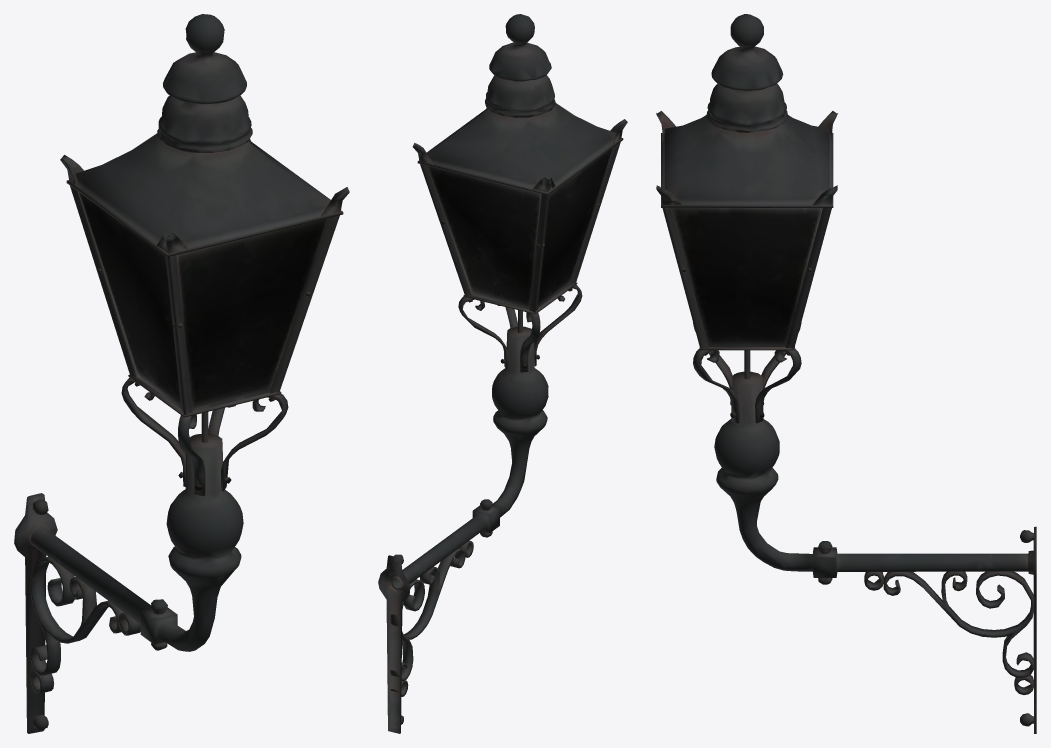
Rendered from lamp-post.699b57c6.glb.
3 renders of one model, left to right at view 1: azimuth 30°, elevation 25°; view 2: azimuth 150°, elevation 25°; view 3: azimuth 270°, elevation 25°, orthographic. The views are drawn at different scales.
Parts seen in each view (by area): view 1: street_lamp_02; view 2: street_lamp_02; view 3: street_lamp_02.
Boxes of the visible parts, x1,y1,x2,y2 form: street_lamp_02: (14, 14, 349, 733); street_lamp_02: (378, 14, 627, 733); street_lamp_02: (656, 14, 1036, 733).
Bounding box in the file's own units: 0.3849 × 1.67 × 0.8064.
Materials: 2 (2 with a texture image).
